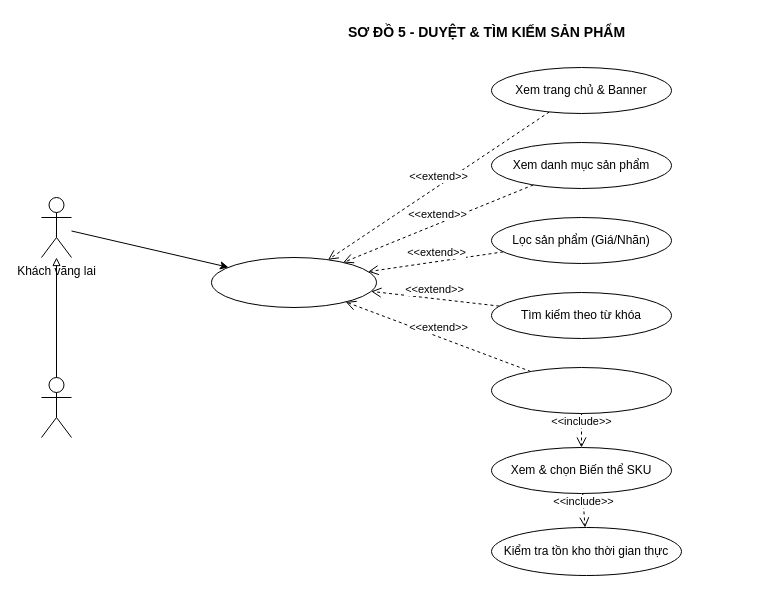
Some shapes in this 779 by 593 pixel diagram are drawn without their labels. The centre of each missing label's shape, as x and y in pixels:
Khách hàng: pixel 56 407
Xem & Tìm kiếm sản phẩm: pixel 293 282
Xem chi tiết sản phẩm: pixel 581 390
